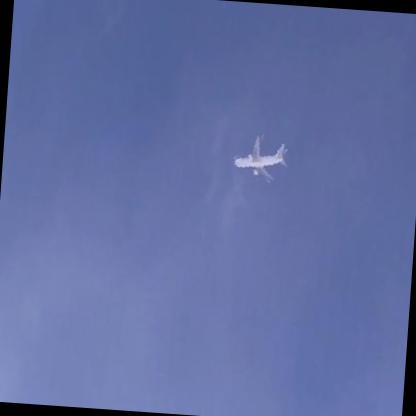plane: (230, 131, 291, 187)
